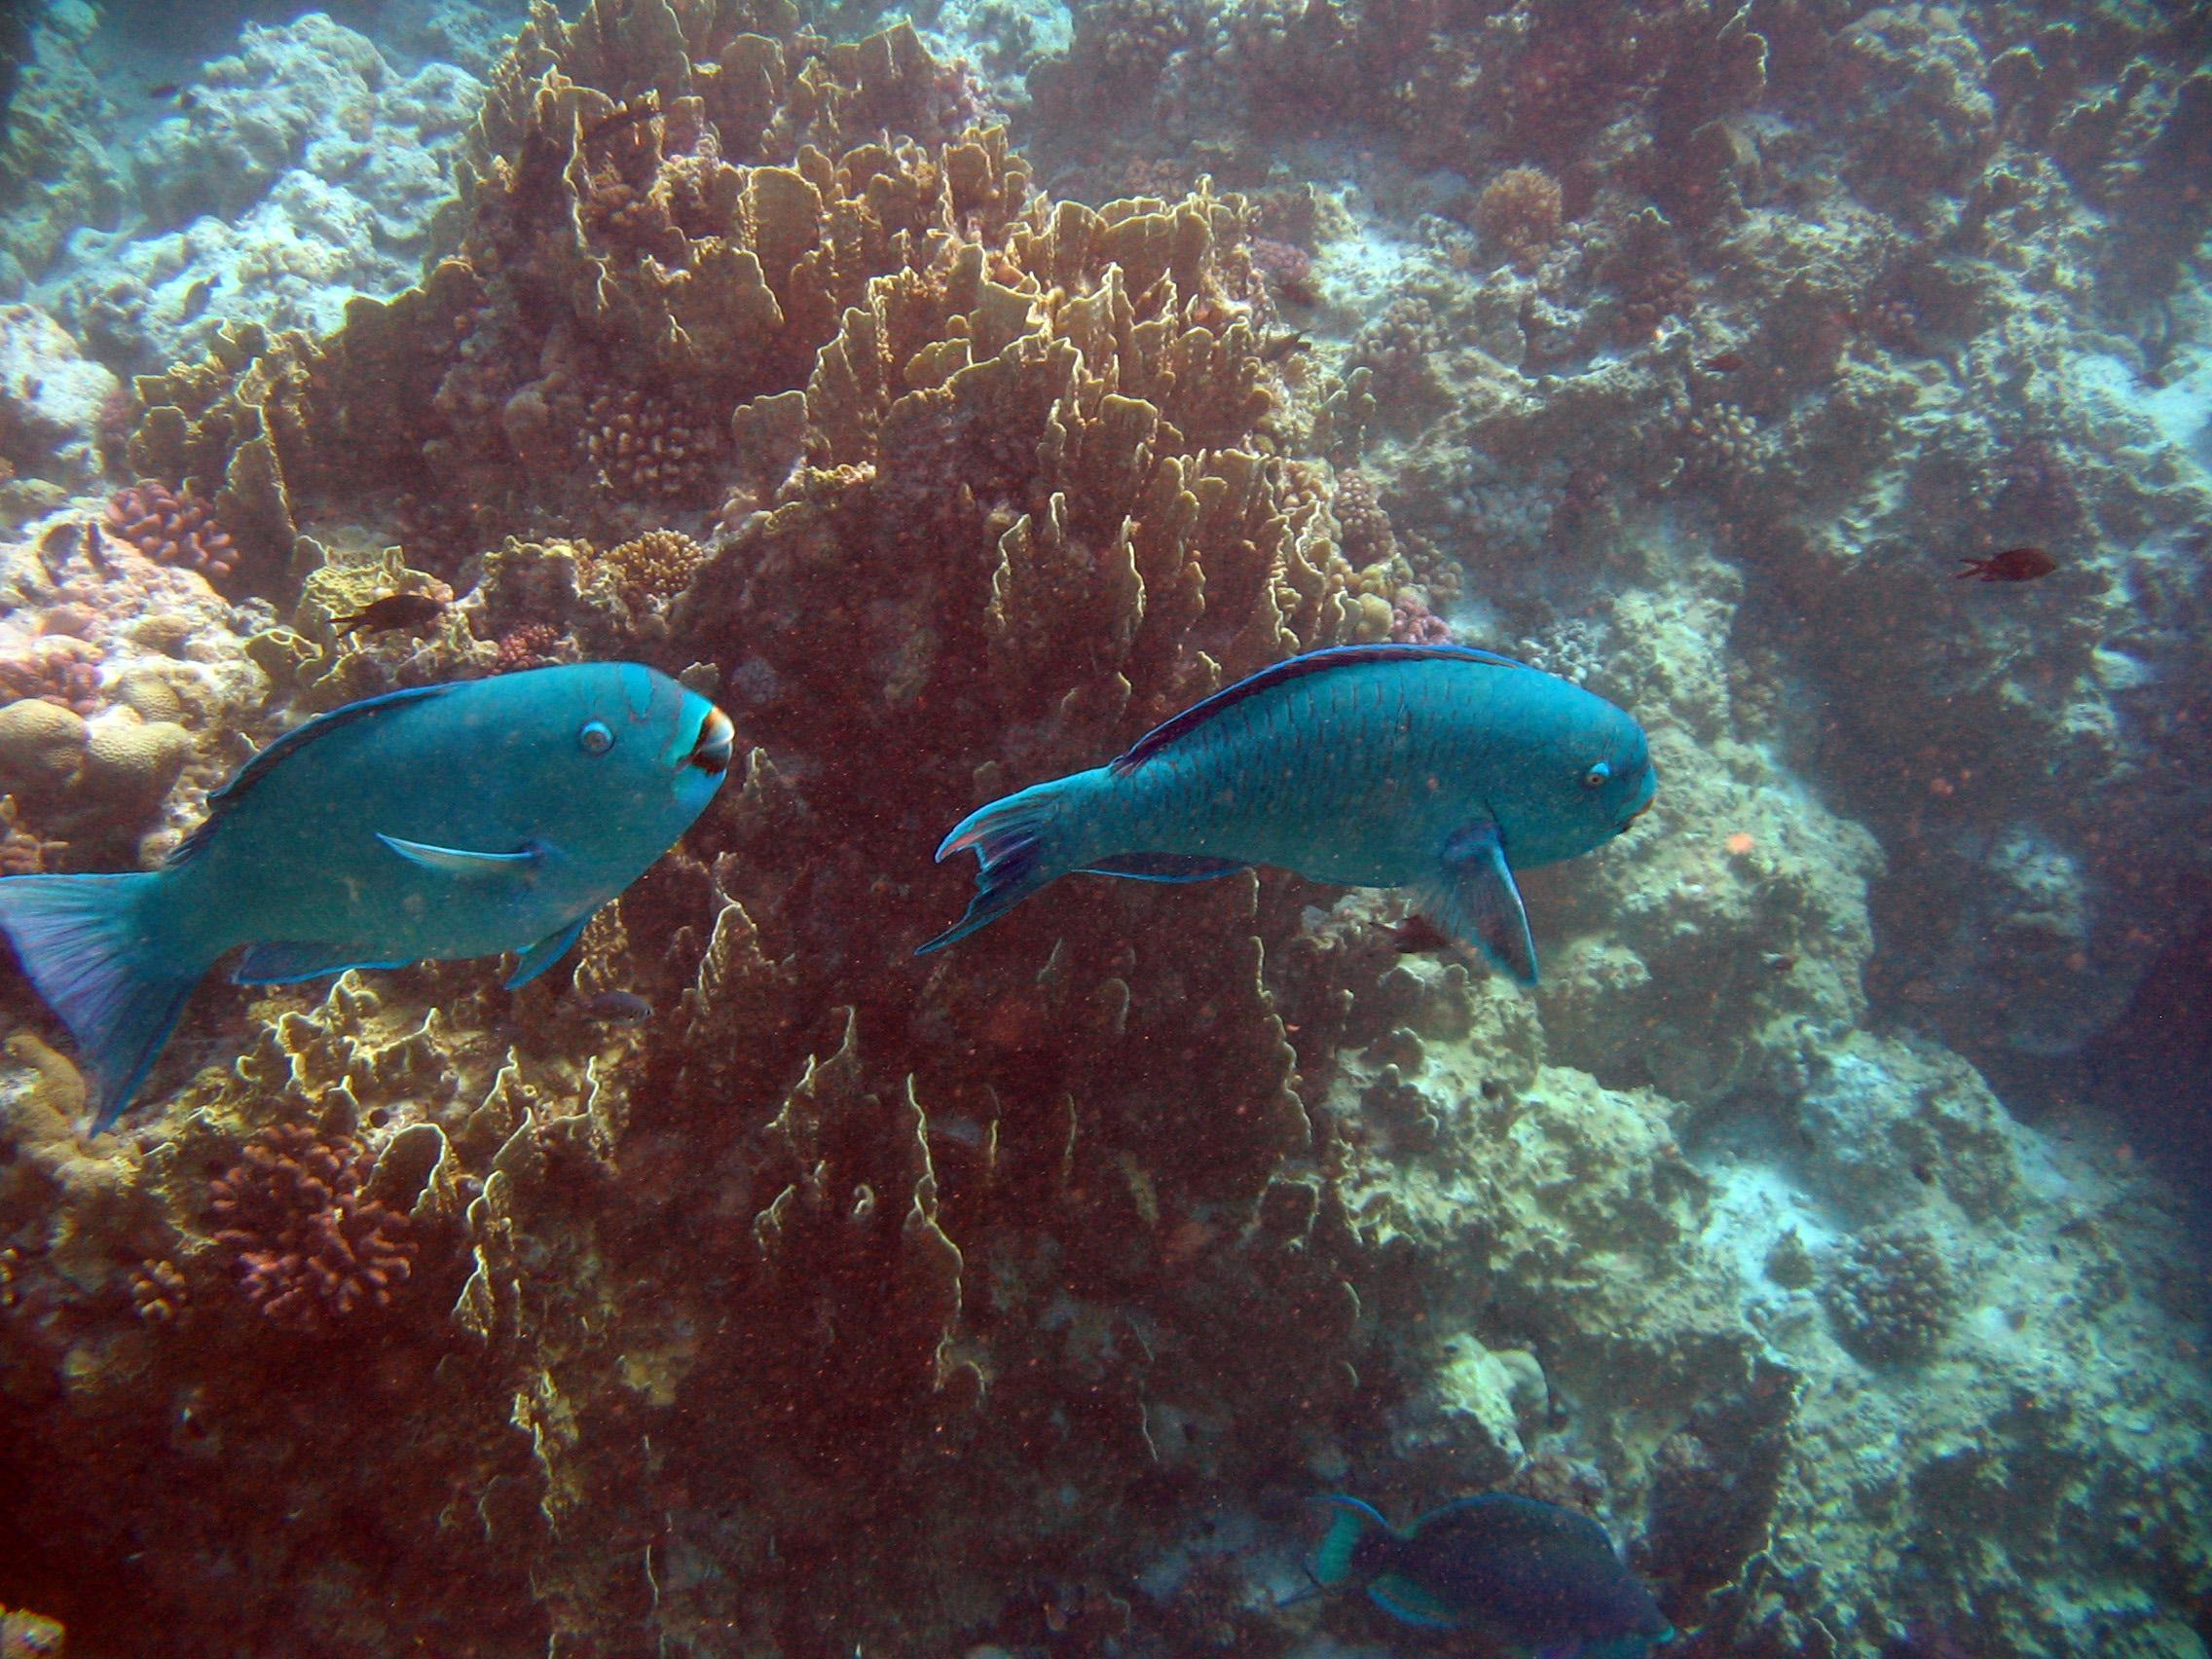Fish: (0, 662, 744, 1133), (921, 636, 1681, 990)
